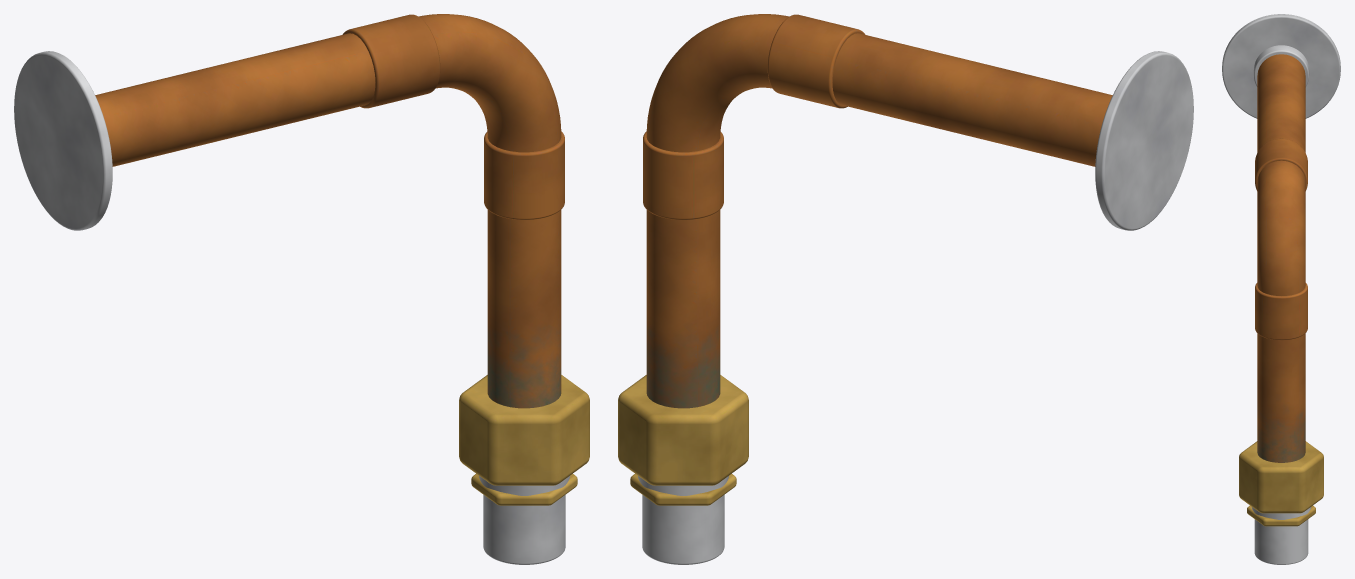
File: pipe.glb
3 views of the same model, side by side, from view 1: azimuth 30°, elevation 25°; view 2: azimuth 150°, elevation 25°; view 3: azimuth 270°, elevation 25° (orthographic). The views are drawn at different scales.
Visible parts, largest first — view 1: Copper, Nickel, Brass; view 2: Copper, Nickel, Brass; view 3: Copper, Nickel, Brass.
Part boxes in pixels (x1,y1,x2,y2): Copper: [95, 14, 564, 408]; Nickel: [14, 51, 569, 564]; Brass: [459, 375, 589, 505]; Copper: [643, 14, 1112, 408]; Nickel: [638, 51, 1193, 564]; Brass: [618, 375, 748, 505]; Copper: [1255, 54, 1307, 462]; Nickel: [1222, 14, 1340, 564]; Brass: [1239, 441, 1323, 526].
Size of the model in its own units: 2.74 by 3.06 by 0.84.
3 materials, 3 textured.
